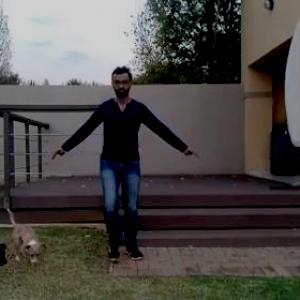land: (55, 78, 206, 250)
